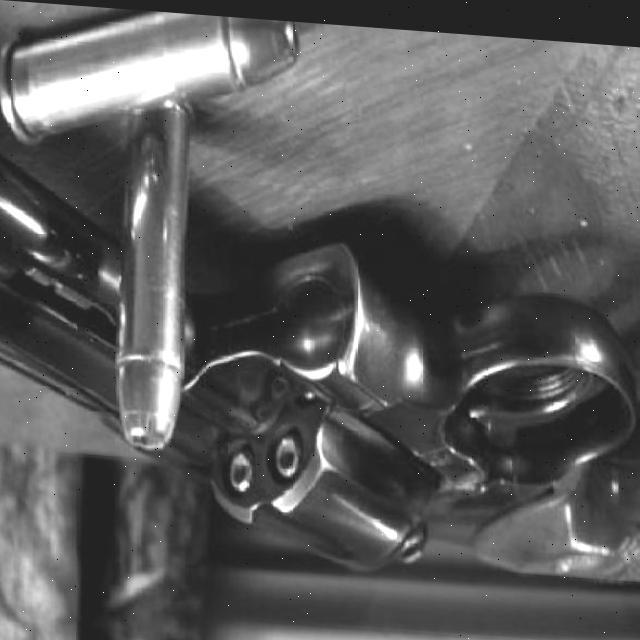gun: (0, 126, 640, 592)
